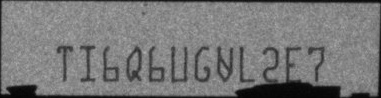2: (260, 46, 280, 83)
6: (147, 45, 166, 82), (101, 46, 119, 82)
7: (308, 44, 326, 83)
B: (216, 43, 234, 82)
E: (283, 45, 304, 84)
G: (192, 45, 212, 82)
I: (79, 43, 97, 83)
L: (238, 44, 256, 83)
Q: (124, 45, 144, 83)
T: (56, 43, 72, 82)
U: (170, 43, 188, 83)
